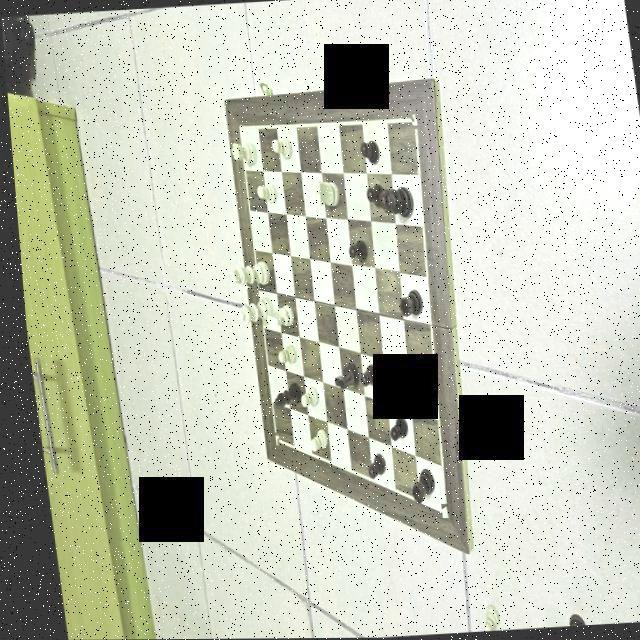chess-table-corners: (408, 114, 419, 128), (432, 503, 440, 518), (266, 432, 272, 445), (236, 122, 242, 133)
